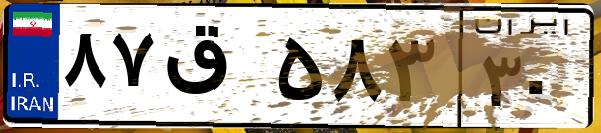0: (525, 38, 570, 115)
3: (385, 28, 445, 110), (475, 38, 525, 113)
5: (270, 28, 330, 110)
7: (110, 28, 158, 98)
8: (330, 28, 385, 110), (57, 26, 110, 100)
ق: (158, 20, 270, 120)
